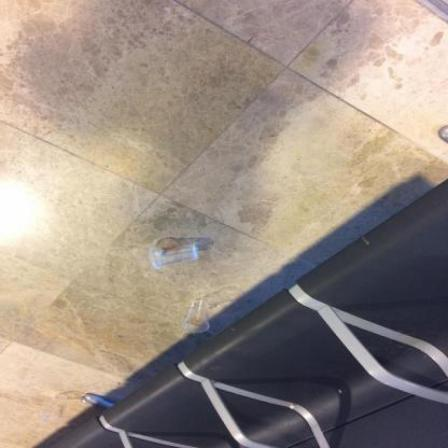Cup: (150, 246, 200, 270), (184, 301, 211, 334)
